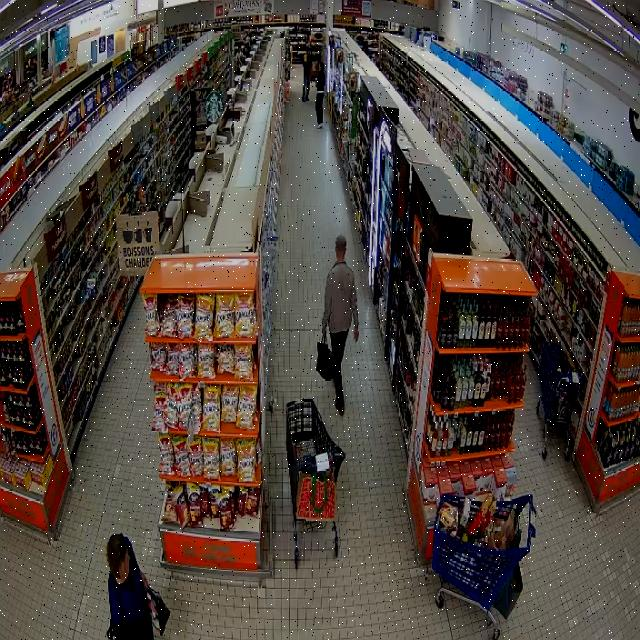bags: (297, 473, 335, 520), (495, 564, 522, 618), (148, 588, 169, 635), (317, 333, 333, 380), (107, 622, 129, 639)
hands: (140, 572, 149, 589), (354, 327, 359, 342)
person: (322, 235, 359, 415), (107, 534, 153, 639), (316, 62, 326, 128), (302, 53, 311, 102)
